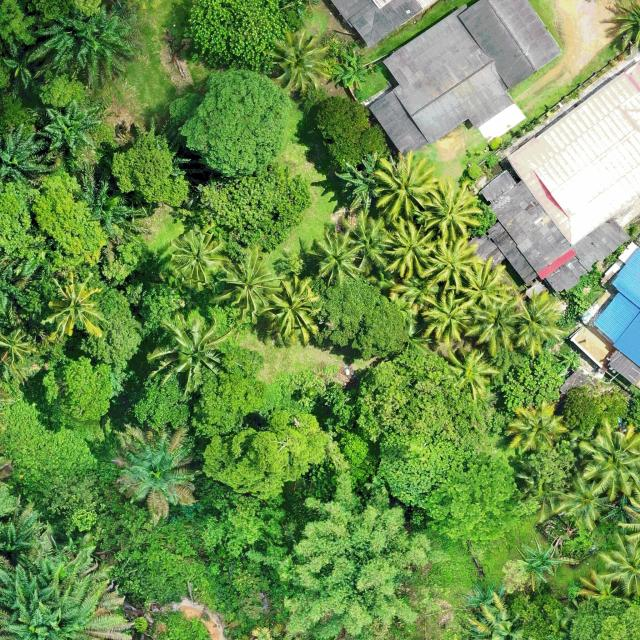Tree: (0, 531, 134, 640), (168, 160, 313, 259), (168, 66, 292, 178), (202, 405, 331, 501), (0, 167, 106, 274), (108, 416, 203, 522), (25, 4, 137, 87), (308, 275, 406, 362), (78, 263, 150, 375), (180, 0, 289, 71), (146, 311, 232, 393), (111, 128, 191, 206), (312, 96, 390, 170), (578, 418, 640, 503), (42, 353, 115, 423), (214, 248, 283, 316), (414, 177, 482, 245), (372, 150, 436, 220), (258, 276, 322, 346), (334, 145, 390, 219), (267, 28, 329, 94), (43, 272, 105, 338), (133, 369, 197, 432), (502, 351, 568, 412), (516, 532, 580, 592), (338, 208, 393, 274), (513, 291, 567, 358), (562, 386, 630, 439), (420, 286, 480, 346), (170, 227, 228, 289), (0, 119, 58, 180), (424, 232, 484, 290), (385, 218, 438, 280), (556, 472, 610, 532), (507, 402, 569, 454), (470, 297, 520, 361), (44, 101, 102, 156), (444, 347, 500, 402), (597, 533, 640, 598), (309, 230, 360, 284), (528, 439, 576, 495), (604, 0, 640, 53), (459, 582, 505, 623), (38, 72, 88, 109), (330, 47, 370, 91), (599, 494, 640, 535), (559, 350, 581, 372)
